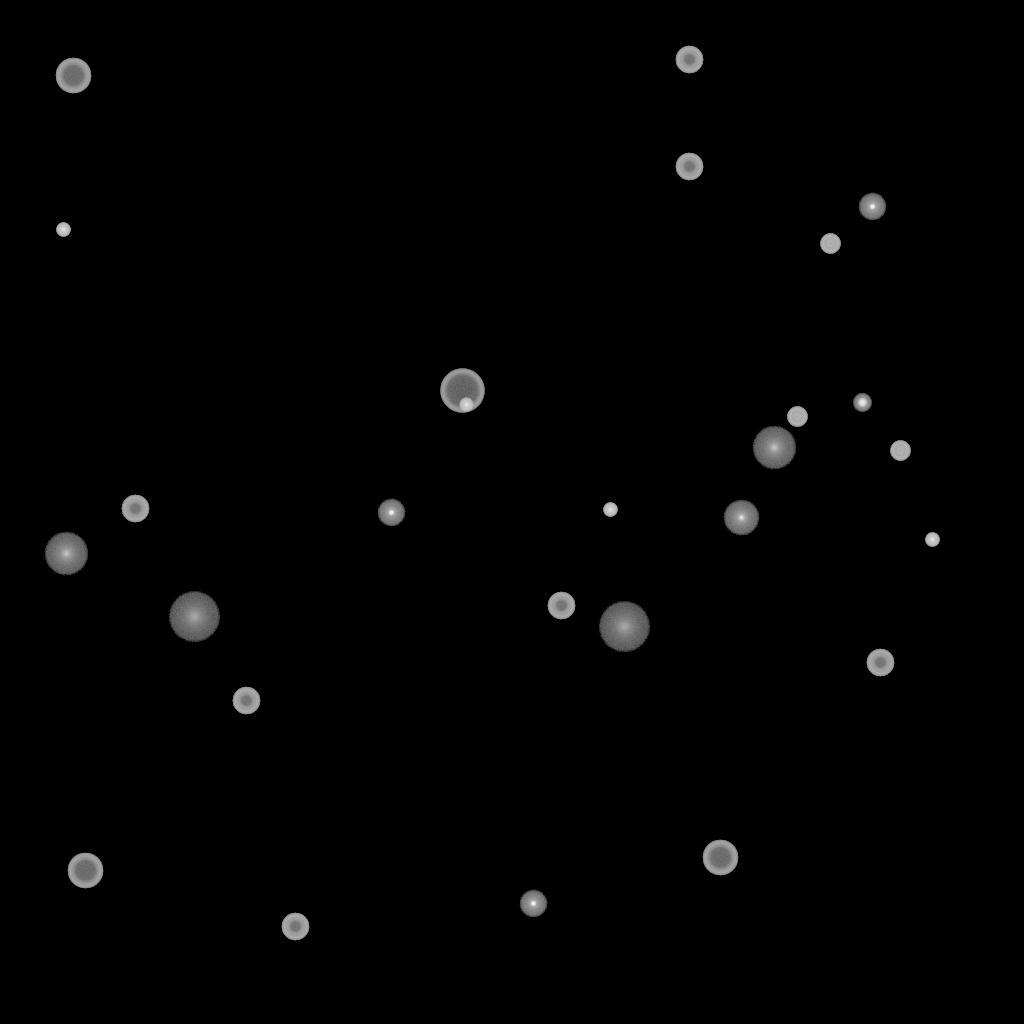depth:-10: (377, 499, 405, 527), (519, 890, 547, 918), (858, 193, 886, 221)
depth:-20: (853, 394, 871, 412)
depth:-30: (56, 223, 70, 237), (925, 533, 939, 547), (459, 398, 473, 412), (603, 503, 617, 517)
depth:-40: (787, 407, 807, 427), (820, 234, 840, 254), (890, 441, 910, 461)
depth:-50: (866, 649, 894, 677), (547, 592, 575, 620), (281, 913, 309, 941), (121, 495, 149, 523), (675, 153, 703, 181), (675, 46, 703, 74), (232, 687, 260, 715)
depth:-60: (55, 58, 91, 94), (67, 853, 103, 889), (702, 840, 738, 876)
depth:-70: (440, 369, 484, 413)
depth:0: (723, 500, 759, 536)
depth:10: (752, 426, 796, 470), (44, 532, 88, 576)
depth:20: (598, 602, 650, 652), (168, 592, 220, 642)
